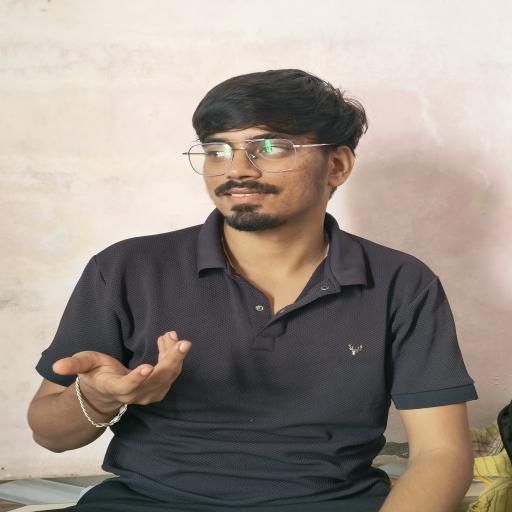Help: (28, 311, 220, 448)
